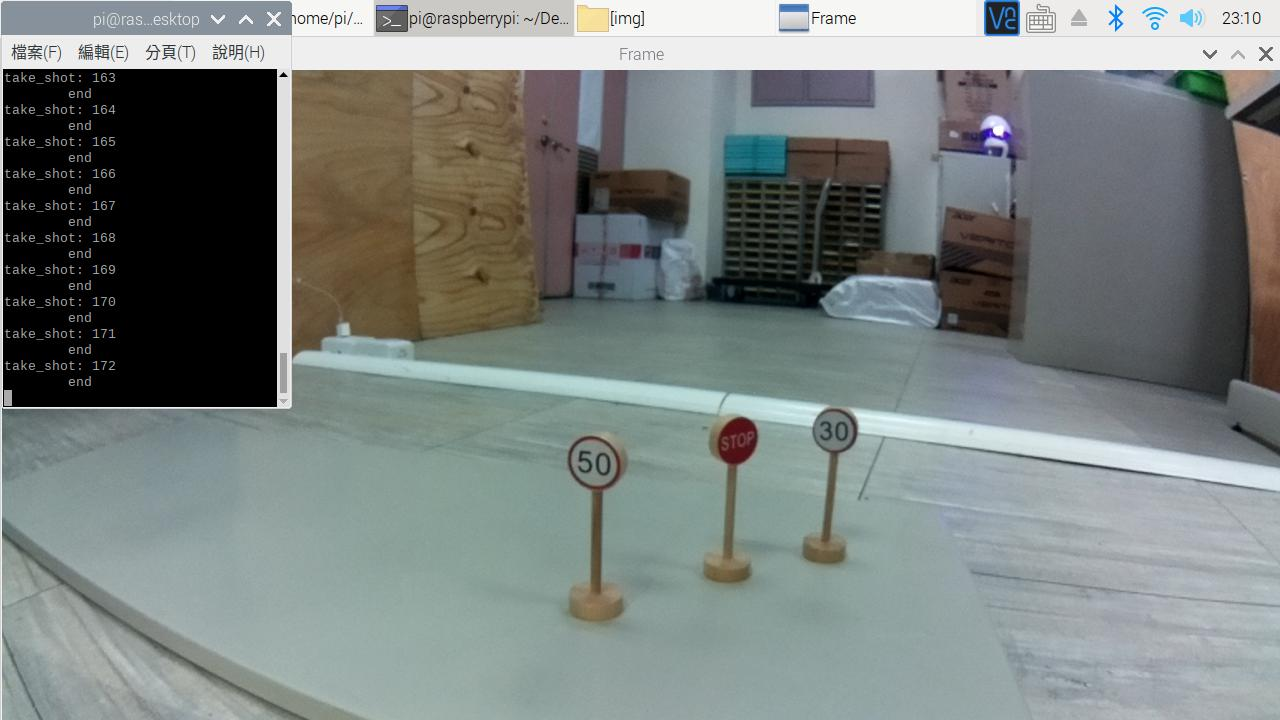Speed30: (803, 404, 872, 464)
Speed50: (560, 430, 637, 500)
Stop: (699, 409, 770, 479)
